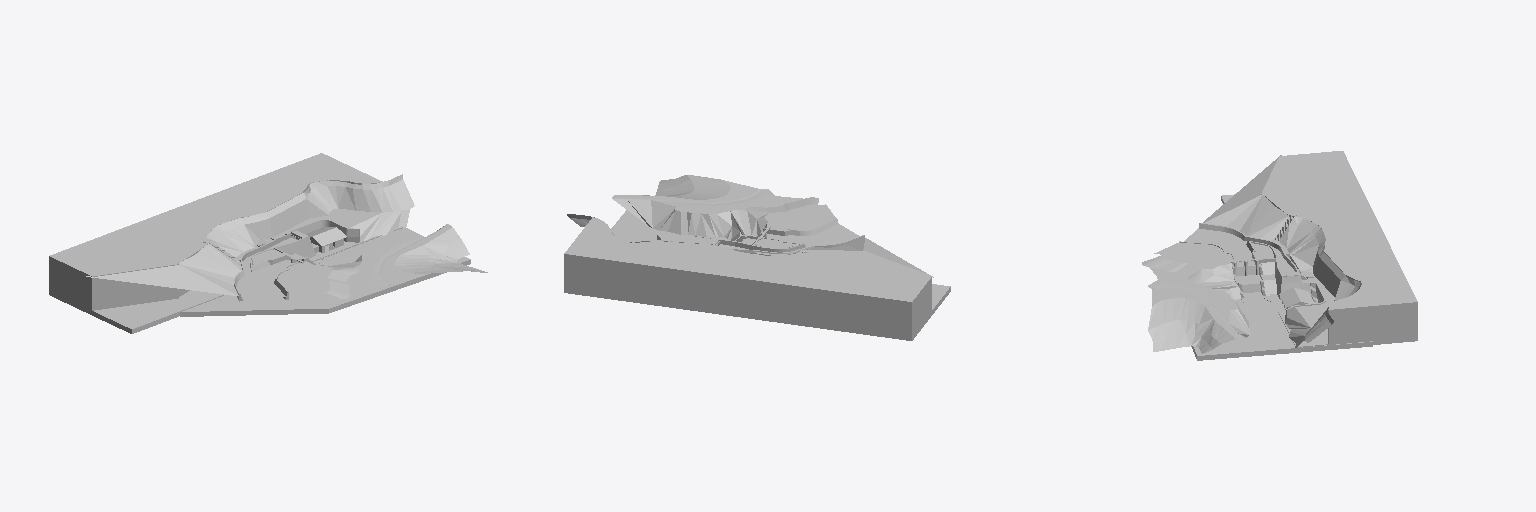
File: hydro.obj
The picture shows the model from 3 angles: view 1: azimuth 30°, elevation 25°; view 2: azimuth 150°, elevation 25°; view 3: azimuth 270°, elevation 25°; orthographic projection.
Visible parts, largest first — view 1: Group_120, Group_102, Group_119, Group_117, Group_100, Group_105, Group_112, Group_110, Group_087; view 2: Group_120, Group_117, Group_110, Group_119, Group_112, Group_100; view 3: Group_120, Group_117, Group_119, Group_102, Group_100, Group_110, Group_105, Group_112.
Boxes of the visible parts, x1,y1,x2,y2 form: Group_120: [49, 153, 402, 333]; Group_102: [206, 174, 414, 256]; Group_119: [180, 227, 470, 316]; Group_117: [325, 224, 487, 298]; Group_100: [86, 243, 241, 295]; Group_105: [257, 208, 409, 244]; Group_112: [237, 238, 295, 297]; Group_110: [278, 263, 332, 295]; Group_087: [281, 219, 359, 242]; Group_120: [564, 217, 950, 340]; Group_117: [612, 175, 818, 240]; Group_110: [764, 204, 835, 230]; Group_119: [611, 210, 730, 243]; Group_112: [719, 223, 858, 248]; Group_100: [807, 238, 933, 277]; Group_120: [1221, 151, 1417, 347]; Group_117: [1142, 256, 1250, 353]; Group_119: [1191, 264, 1372, 360]; Group_102: [1278, 217, 1360, 342]; Group_100: [1203, 155, 1288, 240]; Group_110: [1154, 242, 1233, 268]; Group_105: [1285, 256, 1334, 347]; Group_112: [1184, 228, 1294, 272].
Size of the model in its own units: 568 by 62.6 by 387.